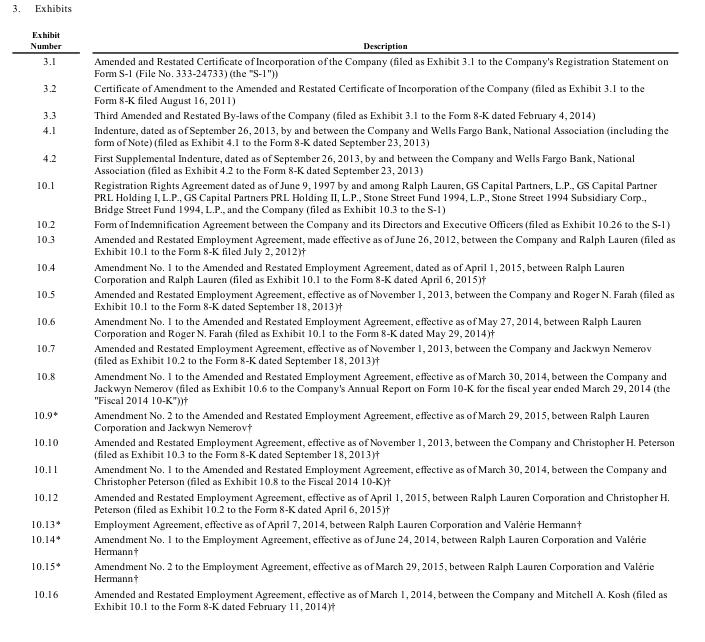table: (29, 29, 674, 610)
table column: (76, 29, 674, 610), (29, 29, 76, 610)
table column header: (29, 29, 674, 51)
table row: (29, 176, 674, 215), (29, 367, 674, 406), (29, 51, 674, 79), (29, 312, 674, 340), (29, 433, 674, 461), (29, 530, 674, 558), (29, 79, 674, 106), (29, 122, 674, 149), (29, 149, 674, 176), (29, 231, 674, 258), (29, 258, 674, 285), (29, 285, 674, 312), (29, 340, 674, 367), (29, 406, 674, 433), (29, 461, 674, 488), (29, 488, 674, 515), (29, 558, 674, 585), (29, 585, 674, 610), (29, 29, 674, 51), (29, 106, 674, 122), (29, 215, 674, 231), (29, 515, 674, 530)
